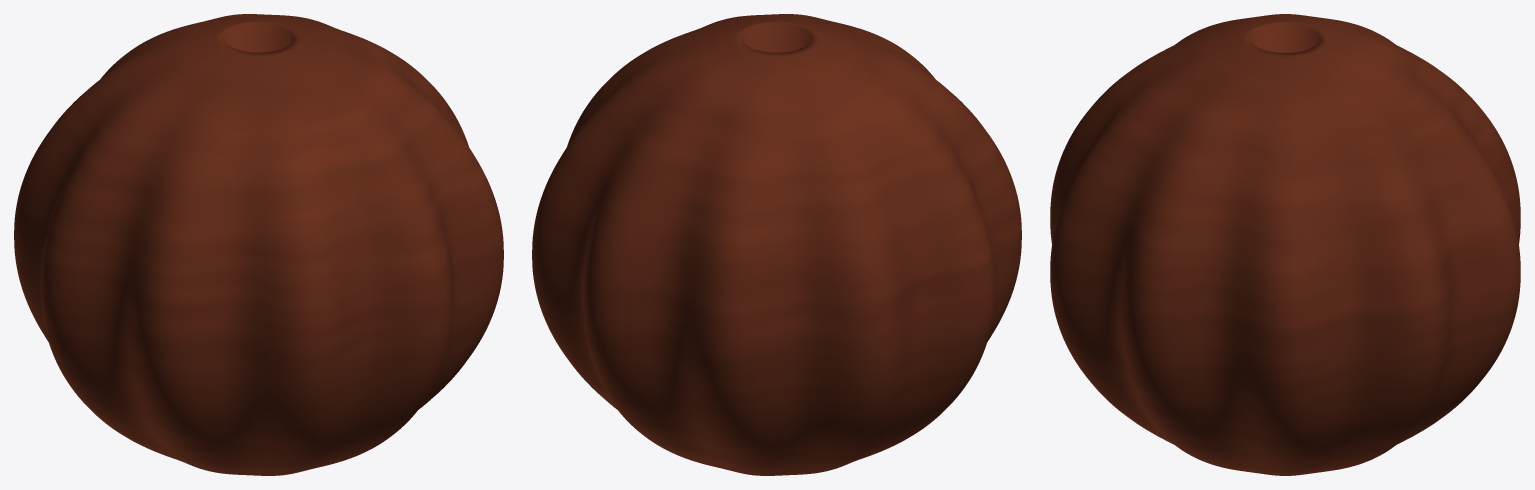
File: melon-rib.glb
3 renders of one model, left to right at view 1: azimuth 30°, elevation 25°; view 2: azimuth 150°, elevation 25°; view 3: azimuth 270°, elevation 25°, orthographic.
Parts seen in each view (by area): view 1: melon-rib; view 2: melon-rib; view 3: melon-rib.
Boxes of the visible parts, x1,y1,x2,y2 form: melon-rib: (14,14,503,475); melon-rib: (532,14,1021,475); melon-rib: (1050,14,1520,475).
Size of the model in its own units: 0.00854 by 0.00791 by 0.00817.
